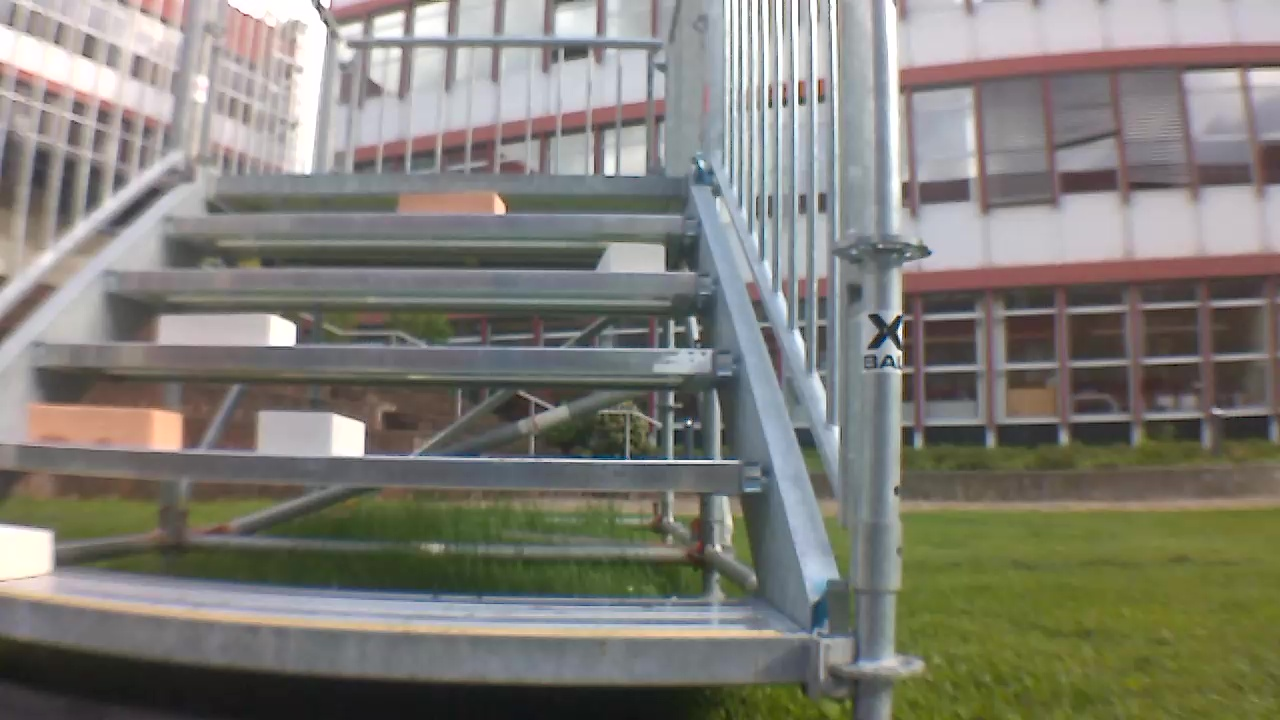brick: (31, 404, 182, 450), (260, 410, 364, 455), (160, 315, 295, 346), (400, 190, 506, 215), (3, 525, 51, 580), (595, 242, 663, 270)
edge: (3, 596, 809, 683), (1, 443, 767, 491), (34, 342, 737, 376), (107, 270, 716, 295), (166, 213, 697, 233), (214, 176, 686, 194)
stairs: (5, 4, 927, 706)
steps: (6, 168, 826, 691)
